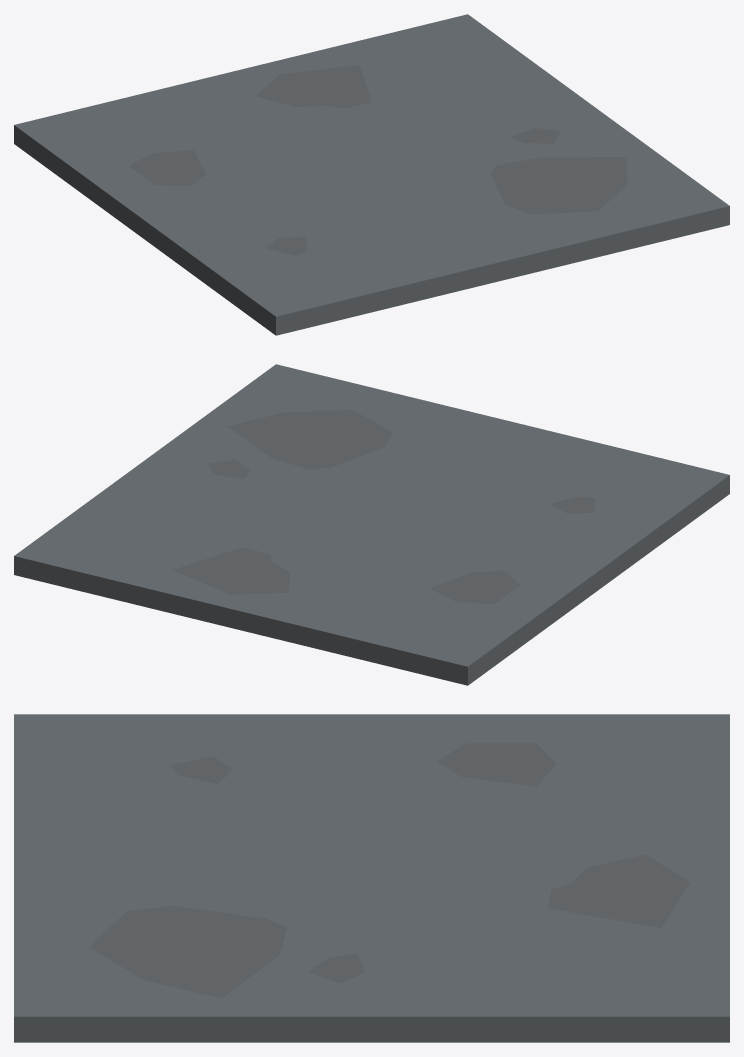
The model's file is Floor_02.fbx.
3 renders of one model, top to bottom at view 1: azimuth 30°, elevation 25°; view 2: azimuth 150°, elevation 25°; view 3: azimuth 270°, elevation 25°, orthographic. The views are drawn at different scales.
Parts seen in each view (by area): view 1: Floor_02; view 2: Floor_02; view 3: Floor_02.
Part boxes in pixels (x1,y1,x2,y2): Floor_02: [14, 14, 729, 335]; Floor_02: [14, 364, 729, 685]; Floor_02: [14, 714, 729, 1042].
Size of the model in its own units: 500 by 20 by 500.
